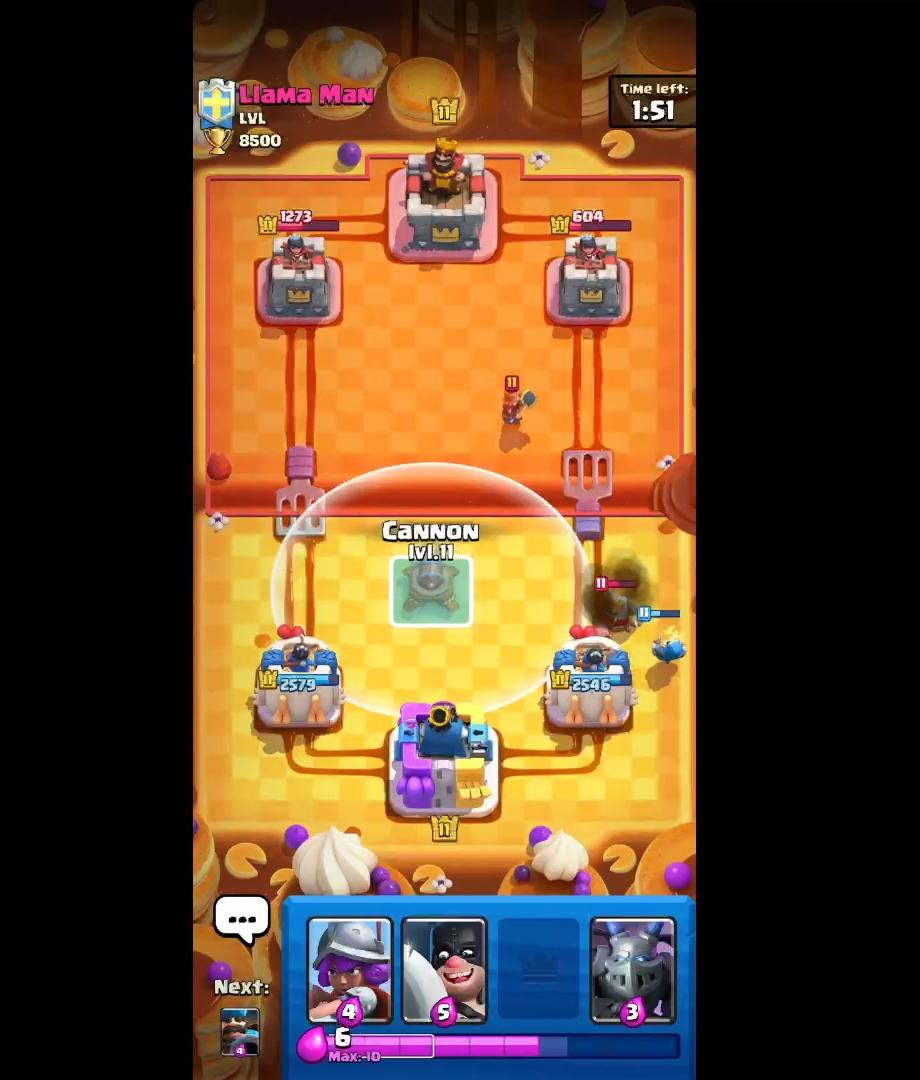Knight: (586, 575, 648, 639)
Valkyrie: (498, 372, 542, 441)
